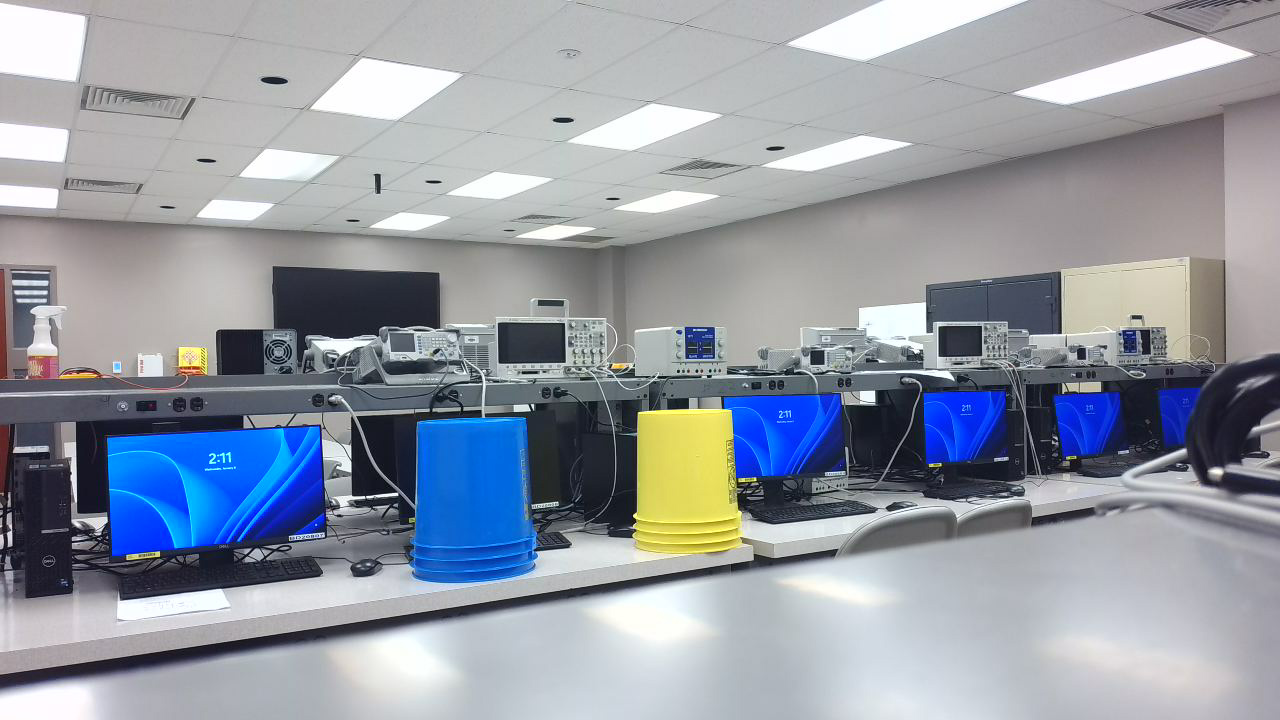blue_bucket: (409, 417, 545, 592)
yellow_bucket: (630, 410, 753, 564)
